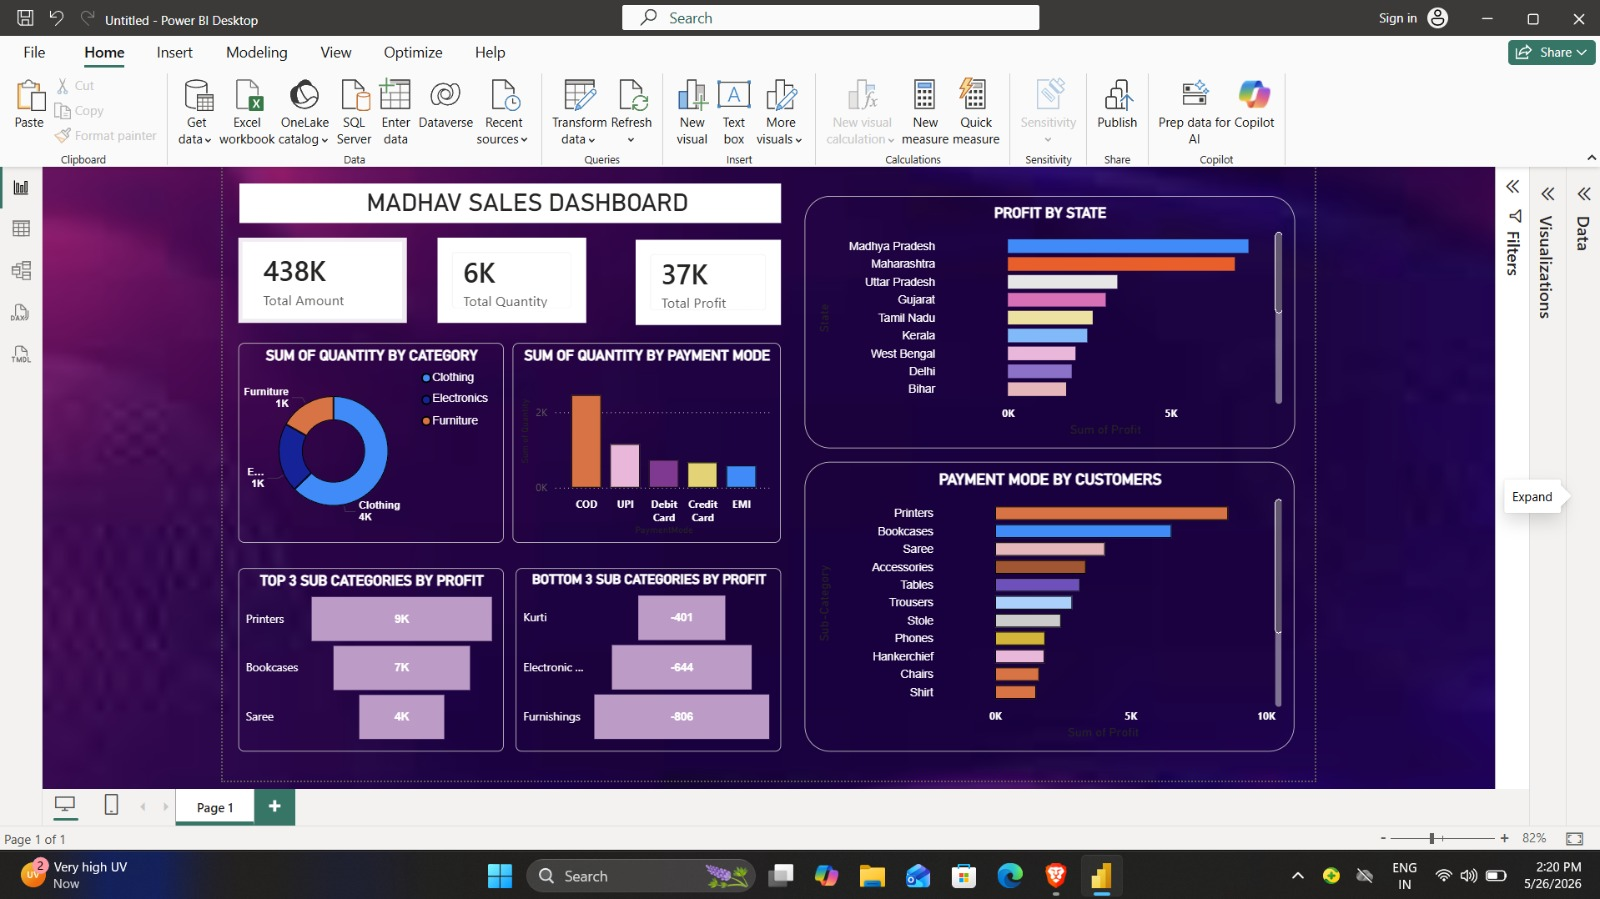

The page's visual inventory and layout, read from the dashboard file:
{"tool":"powerbi","page":{"name":"Page 1","canvas":[1280,720],"ordinal":0},"visuals":[{"type":"barChart","title":"PROFIT BY STATE","fields":{"Category":["Orders-madhav.State"],"Y":["Sum(Details.Profit)"]},"box":[682,34.3,575,296.4],"z":0},{"type":"textbox","box":[19.2,19.2,635.3,46.7],"z":1000},{"type":"pieChart","title":"SUM OF QUANTITY BY CATEGORY","fields":{"Category":["Details.Category"],"Y":["Sum(Details.Quantity)"]},"box":[17.8,207.2,311.5,234.6],"z":2000},{"type":"barChart","title":"PAYMENT MODE BY CUSTOMERS","fields":{"Category":["Details.Sub-Category"],"Y":["Sum(Details.Profit)"]},"box":[682.3,346.1,574.7,339.9],"z":3000},{"type":"cardVisual","fields":{"Data":["Sum(Details.Quantity)"]},"box":[252.5,83.7,174.3,100.2],"z":3500},{"type":"cardVisual","fields":{"Data":["Sum(Details.Amount)"]},"box":[17.8,83.7,197.6,100.2],"z":4000},{"type":"lineClusteredColumnComboChart","title":"SUM OF QUANTITY BY PAYMENT MODE","fields":{"Category":["Details.PaymentMode"],"Y":["Sum(Details.Quantity)"]},"box":[339.9,206.7,314.3,234.8],"z":6000},{"type":"cardVisual","fields":{"Data":["Sum(Details.Profit)"]},"box":[484.4,85.1,170.2,100.2],"z":7000},{"type":"funnel","title":"TOP 3 SUB CATEGORIES BY PROFIT","fields":{"Category":["Details.Sub-Category"],"Y":["Sum(Details.Profit)"]},"box":[17.8,470.7,311.5,215.4],"z":7001},{"type":"funnel","title":"BOTTOM 3 SUB CATEGORIES BY PROFIT","fields":{"Category":["Details.Sub-Category"],"Y":["Sum(Details.Profit)"]},"box":[343.1,470.7,311.5,215.4],"z":7003}]}

Visuals, with their boxes on the page's 1280x720 design canvas (x1, y1, x2, y2). These are canvas units, not pixel positions in the 1600x899 screenshot, which may show the page scaled, cropped or inside an application window:
"PROFIT BY STATE" barChart: rect(682, 34, 1257, 331)
textbox: rect(19, 19, 654, 66)
"SUM OF QUANTITY BY CATEGORY" pieChart: rect(18, 207, 329, 442)
"PAYMENT MODE BY CUSTOMERS" barChart: rect(682, 346, 1257, 686)
cardVisual - Sum(Details.Quantity): rect(252, 84, 427, 184)
cardVisual - Sum(Details.Amount): rect(18, 84, 215, 184)
"SUM OF QUANTITY BY PAYMENT MODE" lineClusteredColumnComboChart: rect(340, 207, 654, 442)
cardVisual - Sum(Details.Profit): rect(484, 85, 655, 185)
"TOP 3 SUB CATEGORIES BY PROFIT" funnel: rect(18, 471, 329, 686)
"BOTTOM 3 SUB CATEGORIES BY PROFIT" funnel: rect(343, 471, 655, 686)
